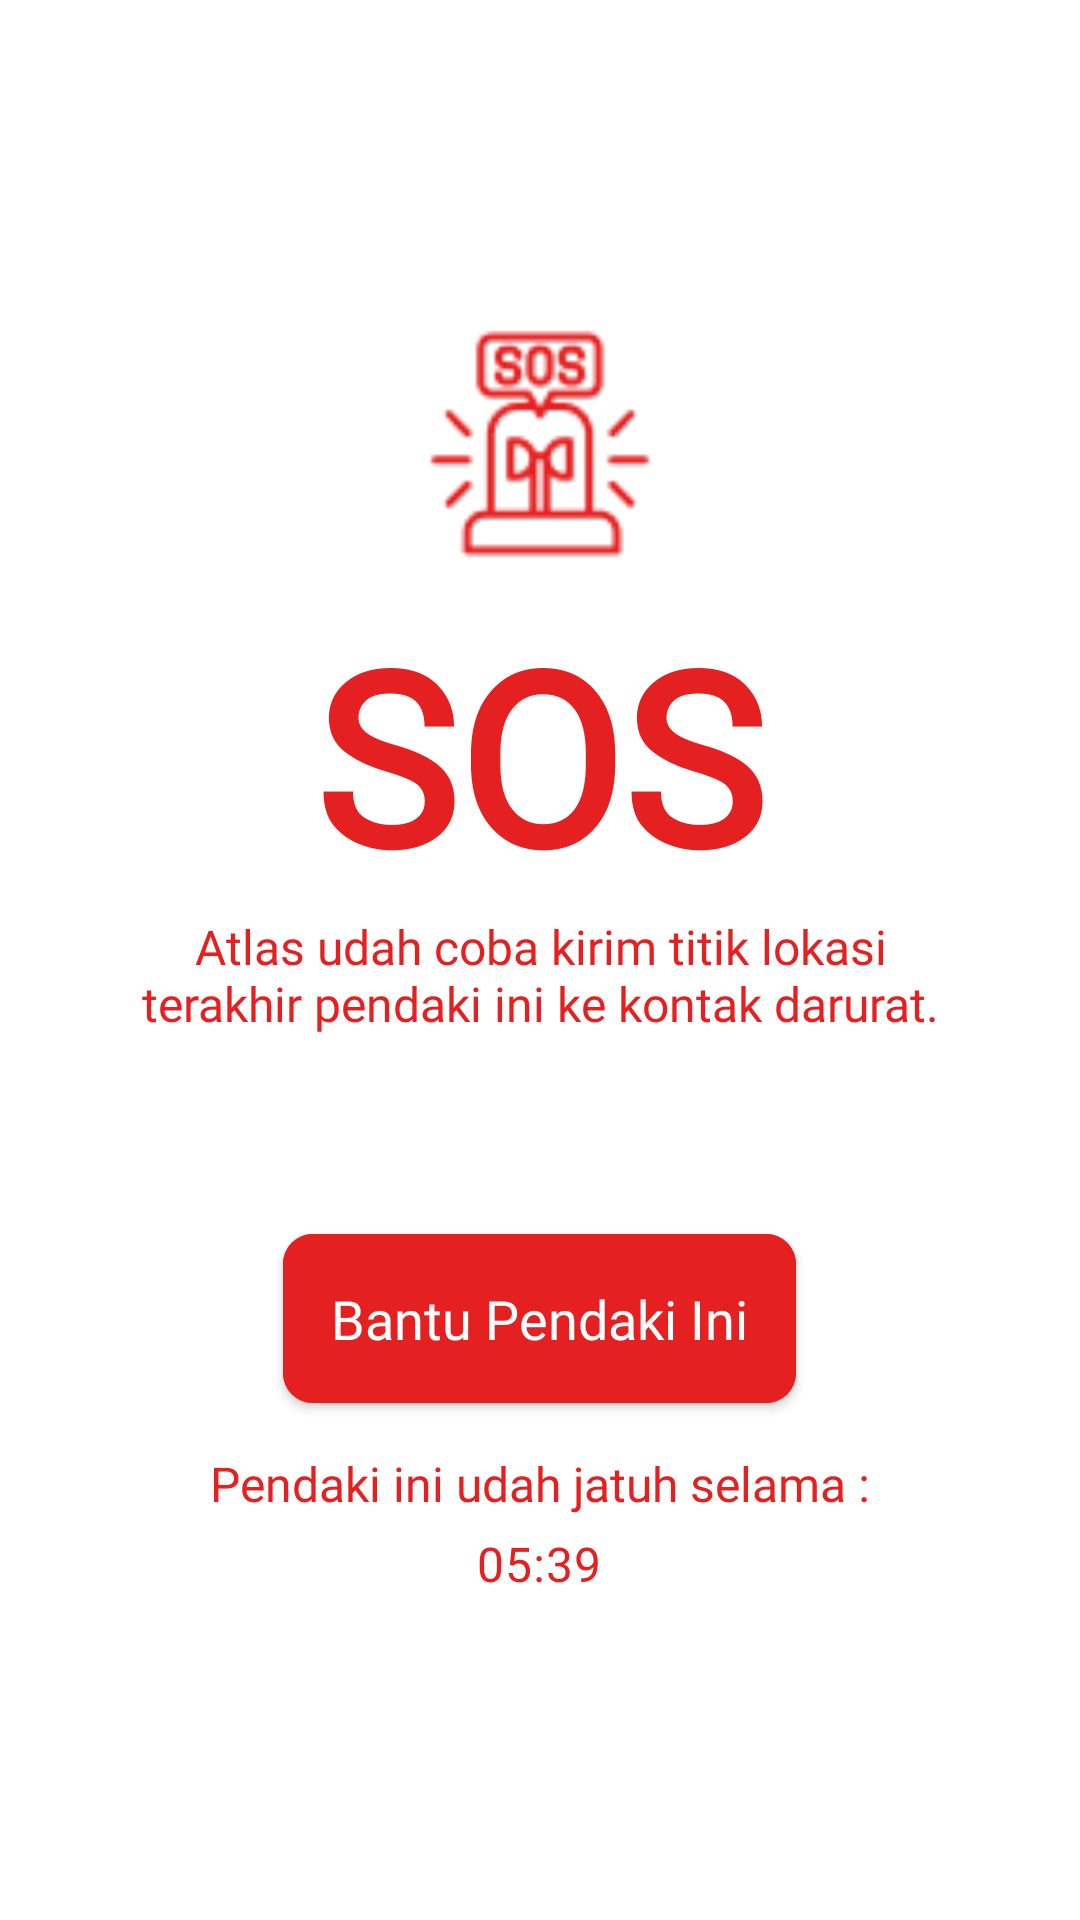

Named icons in this screenshot (1080w x 1920h) and their centers, (x,y):
sos alarm: (540,443)
